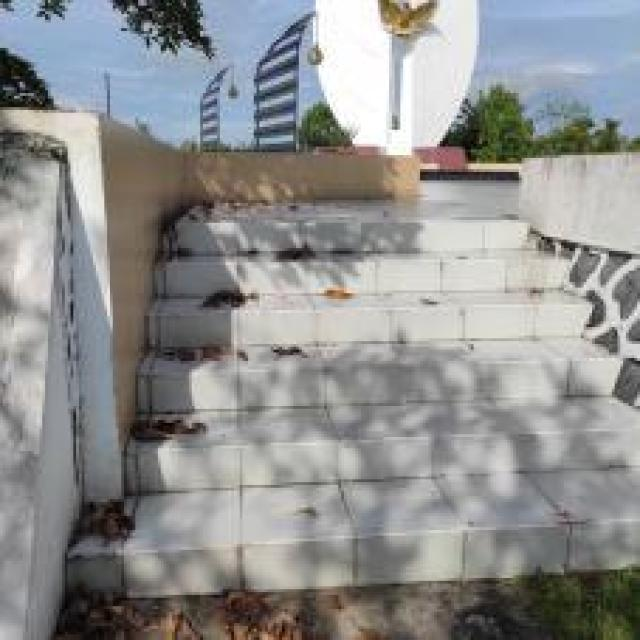upstair: (142, 190, 638, 630)
